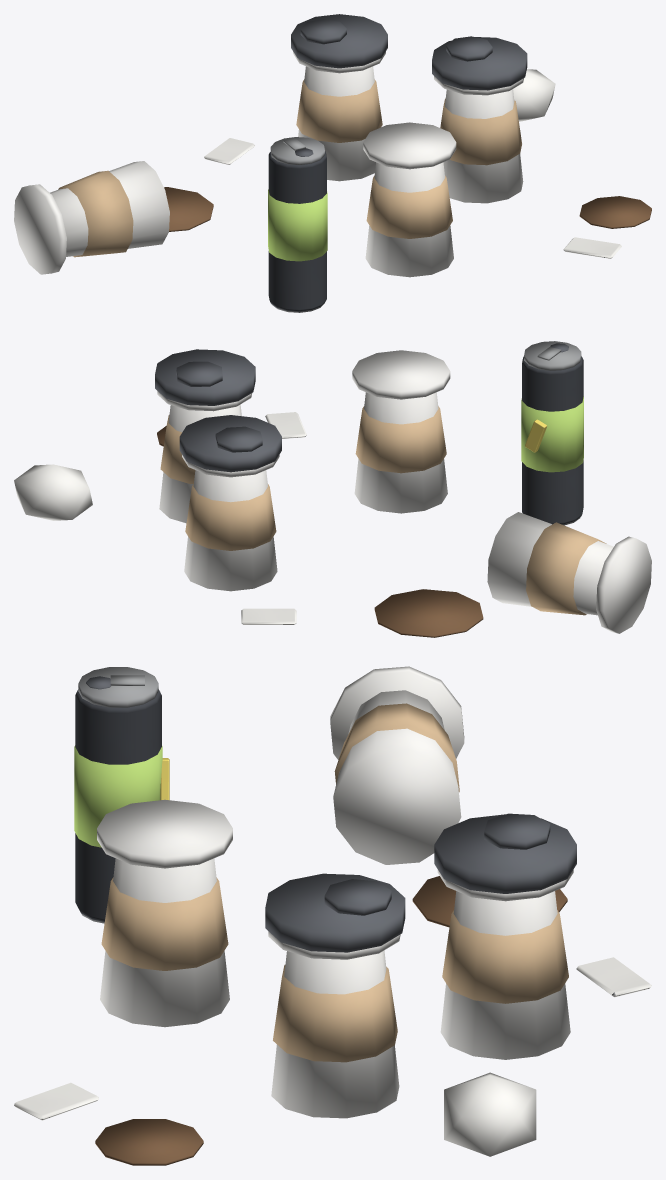
File: Turno_CoffeeCups.fbx
The picture shows the model from 3 angles, top to bottom: view 1: azimuth 30°, elevation 25°; view 2: azimuth 150°, elevation 25°; view 3: azimuth 270°, elevation 25°; orthographic projection. The views are drawn at different scales.
Parts seen in each view (by area): view 1: Turno_CoffeeCups; view 2: Turno_CoffeeCups; view 3: Turno_CoffeeCups.
Boxes of the visible parts, x1,y1,x2,y2 form: Turno_CoffeeCups: [14, 14, 651, 312]; Turno_CoffeeCups: [14, 341, 651, 637]; Turno_CoffeeCups: [14, 666, 651, 1165].
Size of the model in its own units: 0.5996 by 0.163 by 0.412.
Materials: 1 (1 with a texture image).
